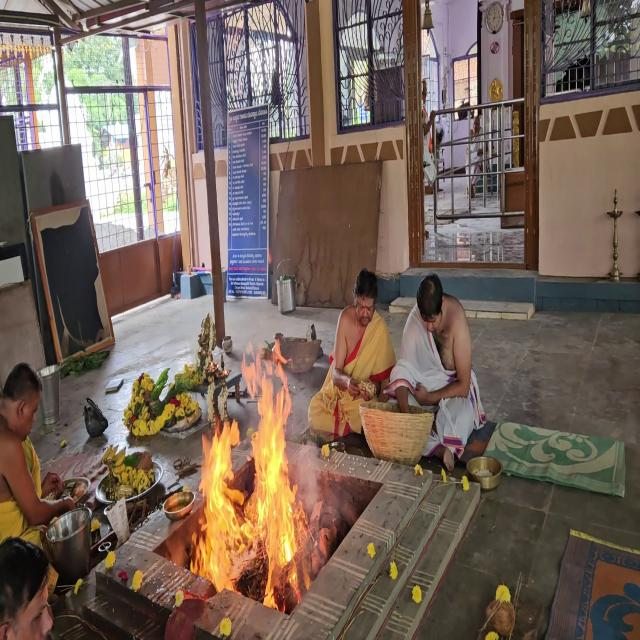fire: (188, 354, 312, 611)
